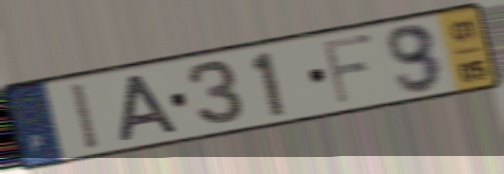1: (249, 47, 288, 120)
3: (185, 59, 248, 128)
9: (383, 21, 448, 96)
A: (118, 71, 183, 146)
F: (320, 30, 377, 109)
I: (67, 80, 104, 154)
